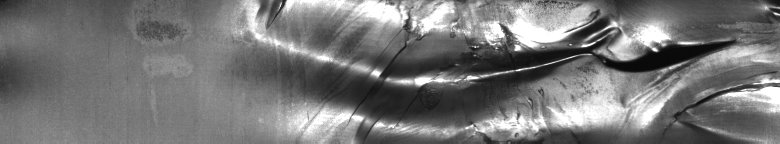ke: (254, 4, 776, 136)
